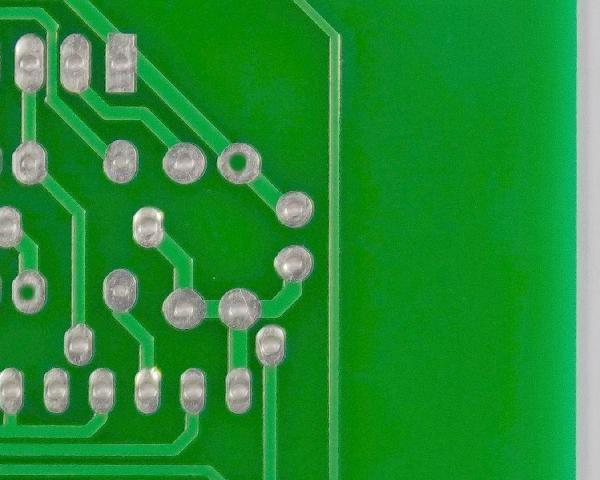missing hole: (214, 135, 267, 188), (6, 266, 51, 316)
